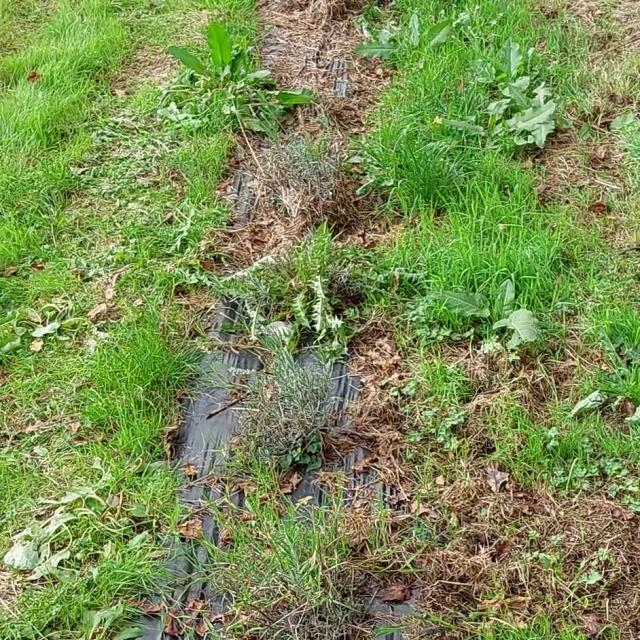organic waste: (155, 22, 314, 134), (26, 481, 144, 566), (340, 7, 463, 85), (445, 266, 525, 356), (461, 34, 561, 96), (432, 94, 523, 154), (496, 87, 592, 142), (17, 284, 91, 342)
